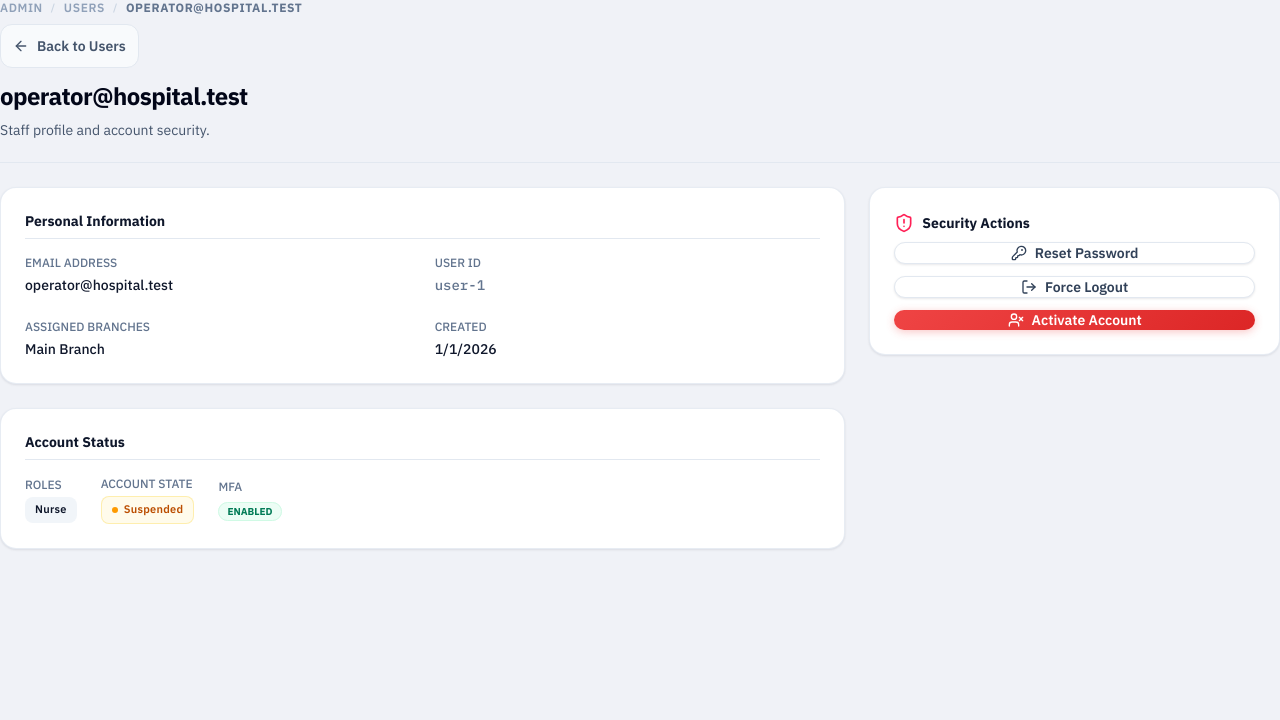
Scenario: UserDetail admin action truth hardening › inactive account status action uses adminService.activateUser and updates inline state
This screenshot has width=1280, height=720.
Click the button "Activate Account".
click(1075, 320)  # box [894, 310, 1255, 330]
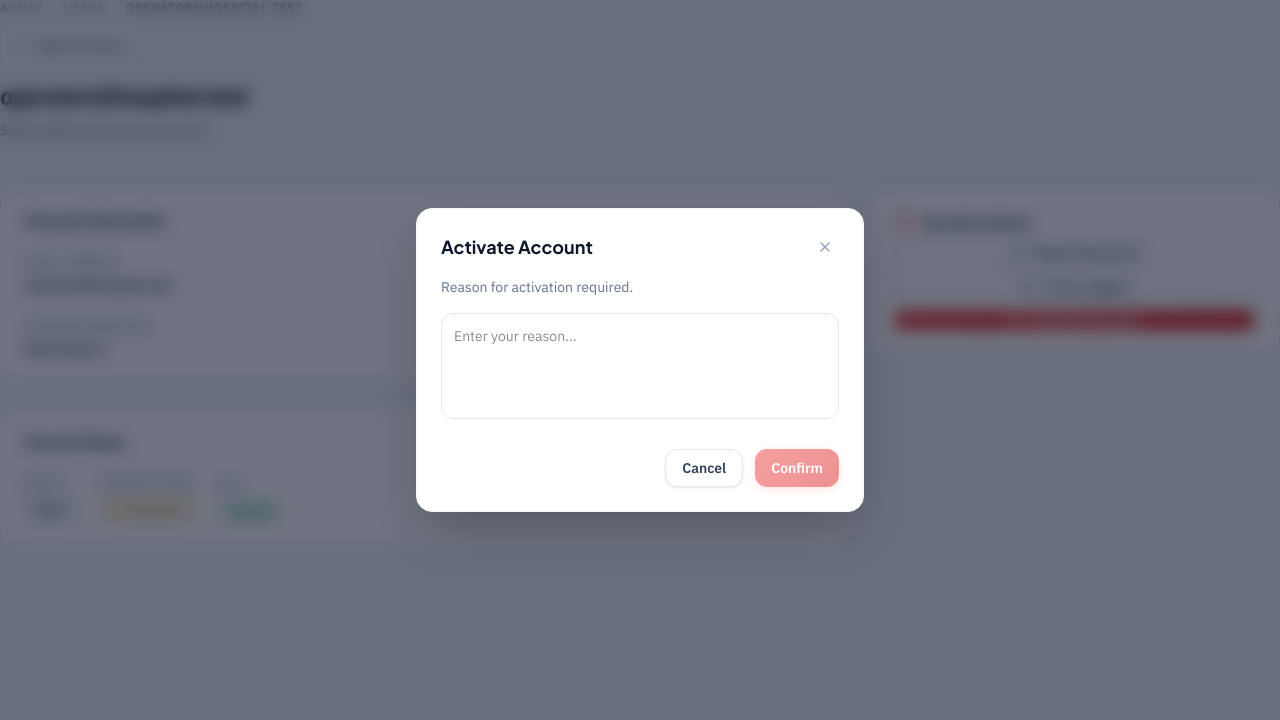
Type "Return to duty" into the text box with placeholder "Enter your reason...".
click(640, 366); type("Return to duty")  # box [441, 313, 839, 419]
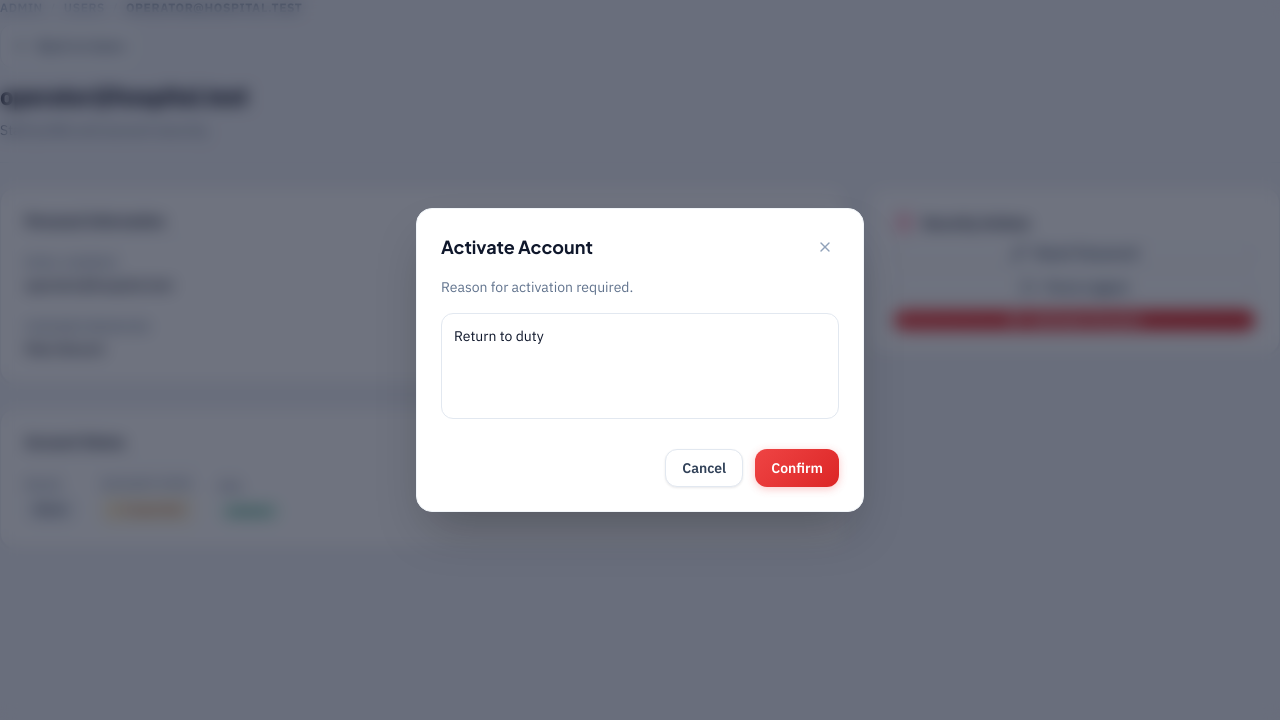
Click the button "Confirm".
click(797, 468)  # box [755, 449, 839, 487]
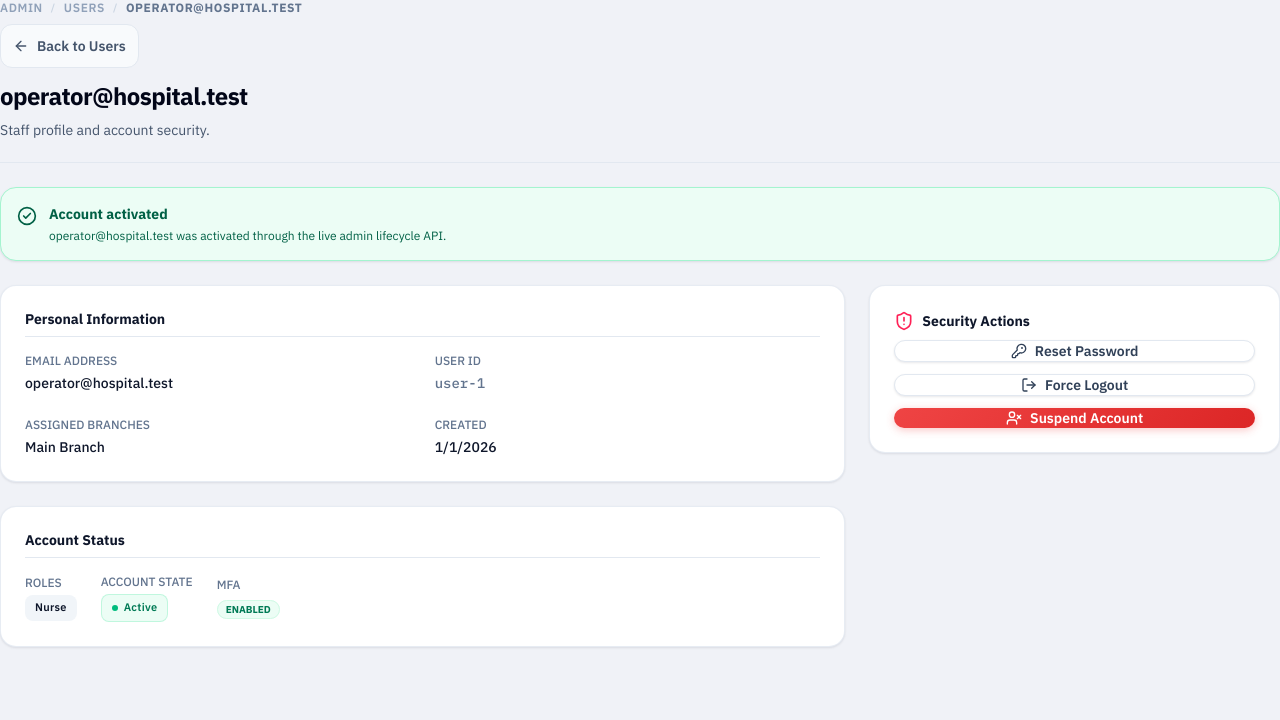
Expected: the message shows "Account activated", [49, 205, 168, 223]
Expected: the text "Active" is shown, [101, 594, 168, 622]
